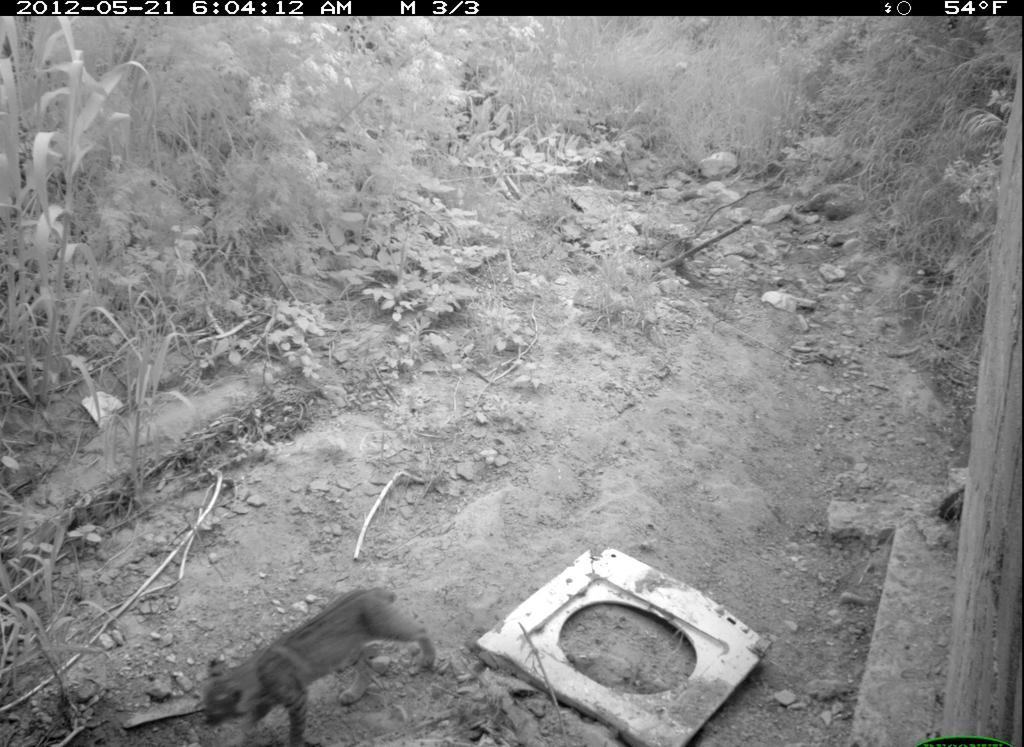bobcat: (200, 580, 440, 745)
